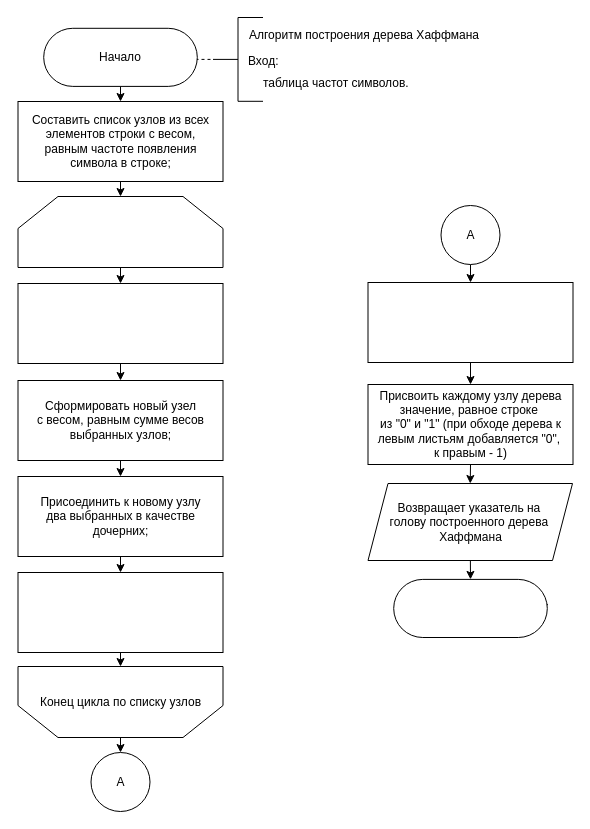
This 590x829 diagram has some shape labels left out. Each missing label, with the box of its shape:
Добавить к списку сформированный узел вместо двух объединенных узлов;: (17, 572, 223, 652)
Из списка выбрать два узла с наименьшим весом;: (17, 282, 223, 364)
Конец: (393, 578, 547, 638)
Назначить оставшийся узел головой построенного дерева: (367, 282, 573, 362)
Пока в списке не один узел: (17, 196, 223, 268)
